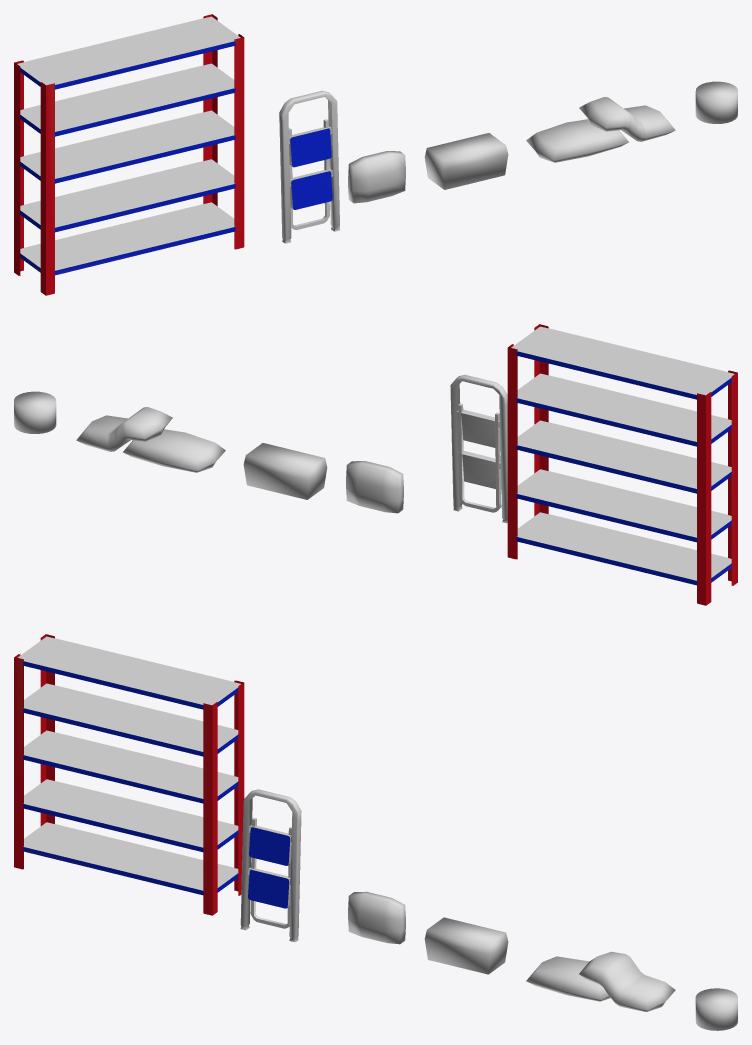
File: Shelf.fbx
3 views of the same model, one above another, from view 1: azimuth 30°, elevation 25°; view 2: azimuth 150°, elevation 25°; view 3: azimuth 330°, elevation 25° (orthographic).
Visible parts, largest first — view 1: Shelf, stair, sable_pack, tools_box, tools_box2, Cylinder; view 2: Shelf, stair, sable_pack, tools_box, tools_box2, Cylinder; view 3: Shelf, stair, sable_pack, tools_box, tools_box2, Cylinder.
Boxes of the visible parts, x1,y1,x2,y2 form: Shelf: (14, 14, 244, 295); stair: (279, 90, 339, 243); sable_pack: (526, 97, 675, 162); tools_box: (424, 133, 508, 189); tools_box2: (348, 151, 405, 203); Cylinder: (695, 81, 737, 123); Shelf: (507, 324, 737, 605); stair: (450, 374, 507, 523); sable_pack: (76, 407, 225, 472); tools_box: (243, 443, 327, 499); tools_box2: (346, 461, 403, 513); Cylinder: (14, 391, 56, 433); Shelf: (14, 634, 244, 915); stair: (240, 789, 301, 941); sable_pack: (526, 951, 675, 1011); tools_box: (424, 917, 508, 974); tools_box2: (348, 891, 405, 944); Cylinder: (695, 988, 737, 1030).
Size of the model in its own units: 638 by 182 by 60.66.
